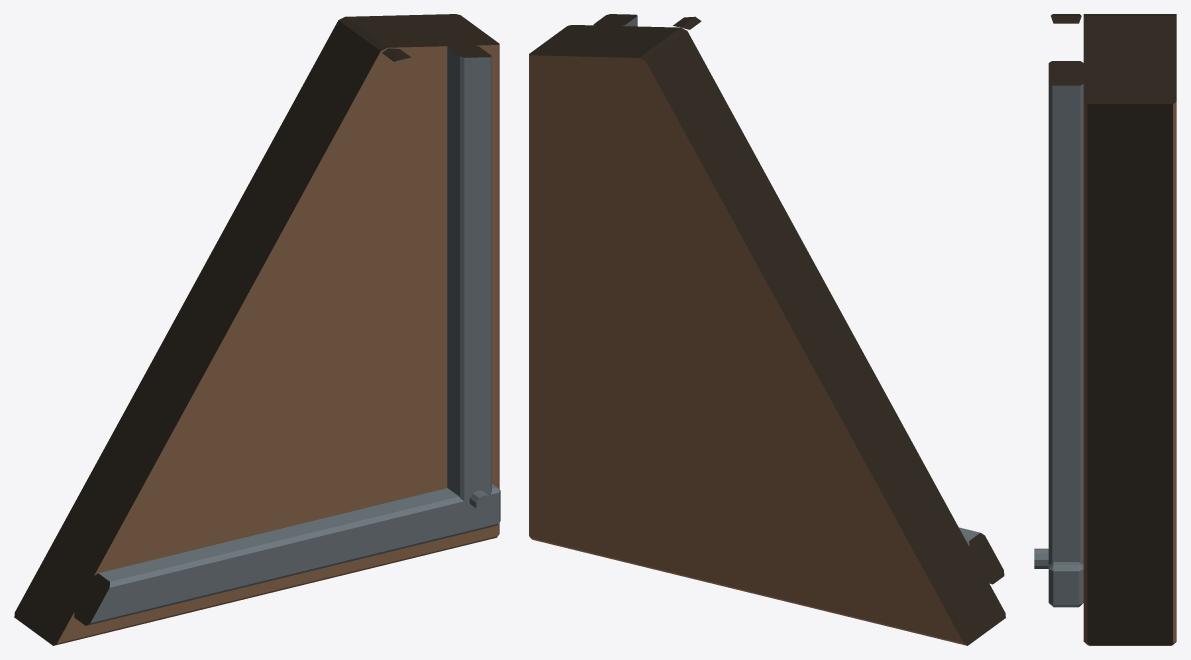
The model's file is SM_DoorShard_03_47.fbx.
The picture shows the model from 3 angles, left to right: view 1: azimuth 30°, elevation 25°; view 2: azimuth 150°, elevation 25°; view 3: azimuth 270°, elevation 25°; orthographic projection. The views are drawn at different scales.
Visible parts, largest first — view 1: SM_DoorShard_03_47; view 2: SM_DoorShard_03_47; view 3: SM_DoorShard_03_47.
Part boxes in pixels (x1=…): SM_DoorShard_03_47: x1=14, y1=14, x2=500, y2=645; SM_DoorShard_03_47: x1=529, y1=14, x2=1005, y2=645; SM_DoorShard_03_47: x1=1034, y1=14, x2=1176, y2=645.
Bounding box in the file's own units: 97.41 × 24.5 × 108.
